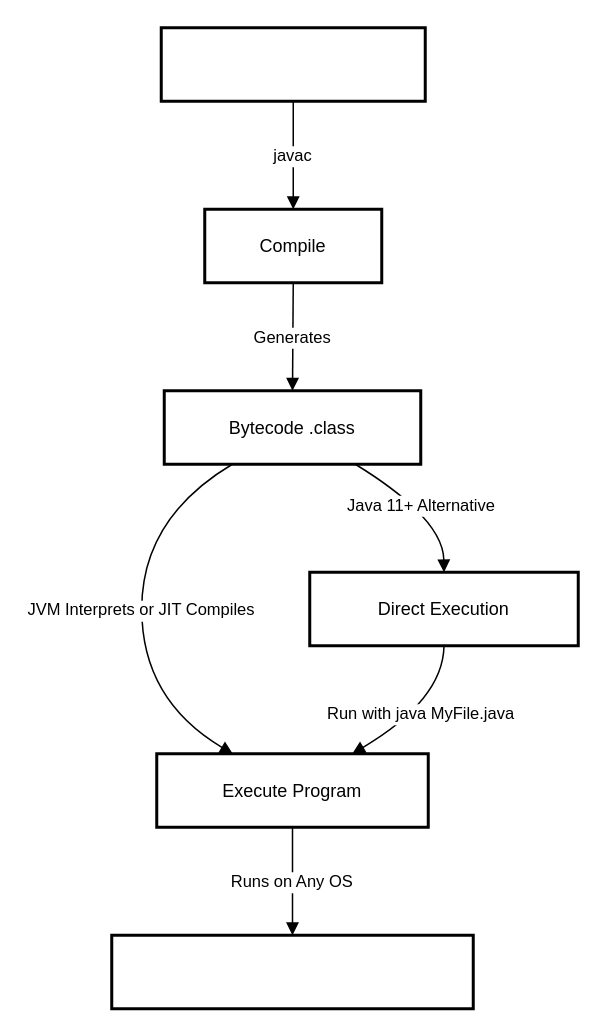
The diagram is 605 pixels wide and 1035 high, and some of its shapes have lost their labels. Each missing label, with the centre of its shape:
Cross-Platform Execution: the point at 292,971
Write Java Code: the point at 292,64
